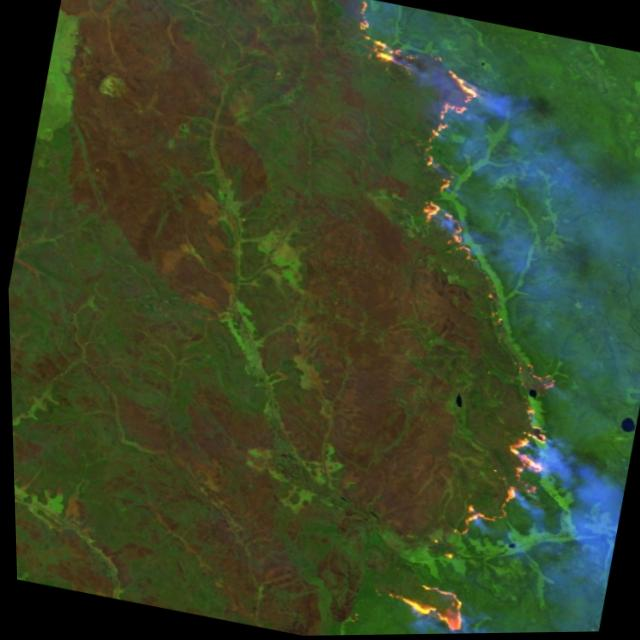fire: (349, 337, 583, 636), (295, 0, 528, 268)
